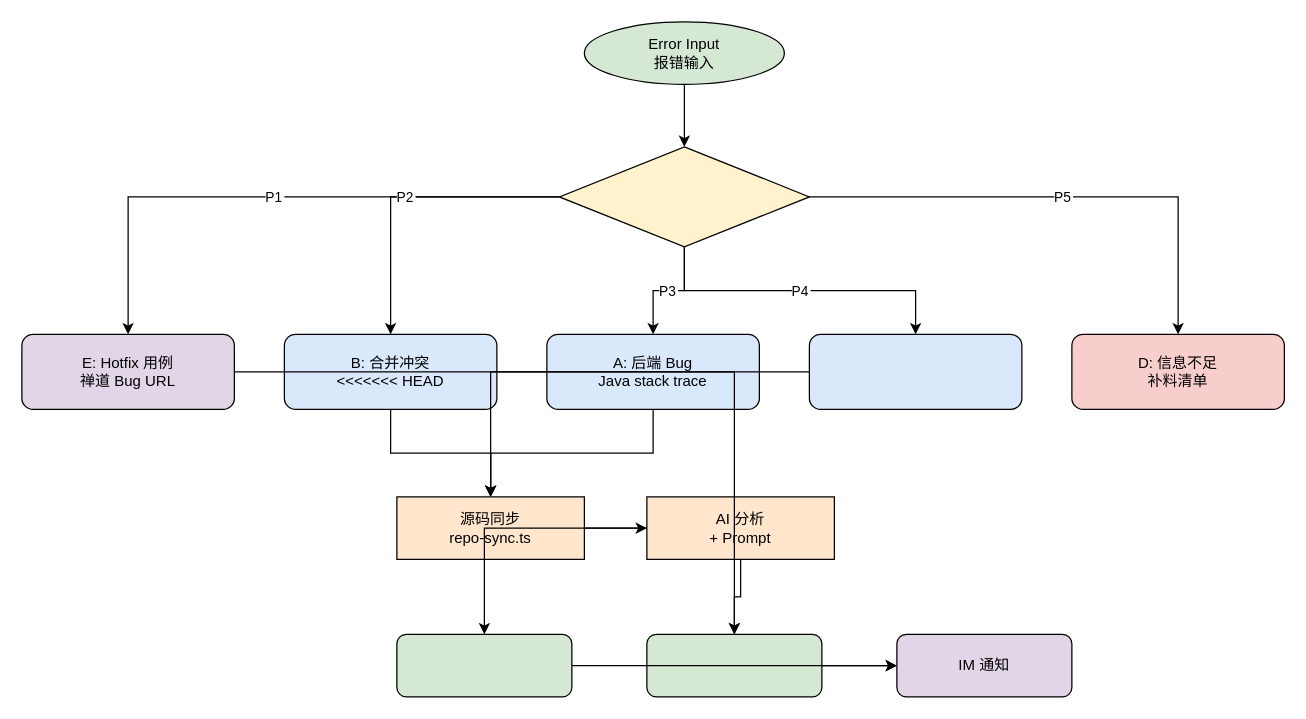
Some shapes in this 1306 by 719 pixel diagram are drawn without their labels. Each missing label, with the centre of its shape:
C: 前端 Bug TypeError / Chunk: pixel 915 371
HTML 报告: pixel 484 665
MD 测试用例: pixel 734 665
Signal Detection 信号检测: pixel 683 196
